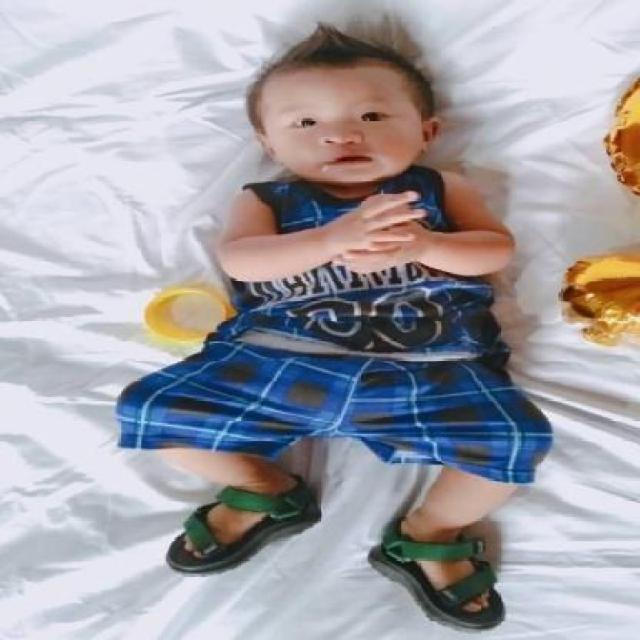baby: (113, 22, 552, 628)
